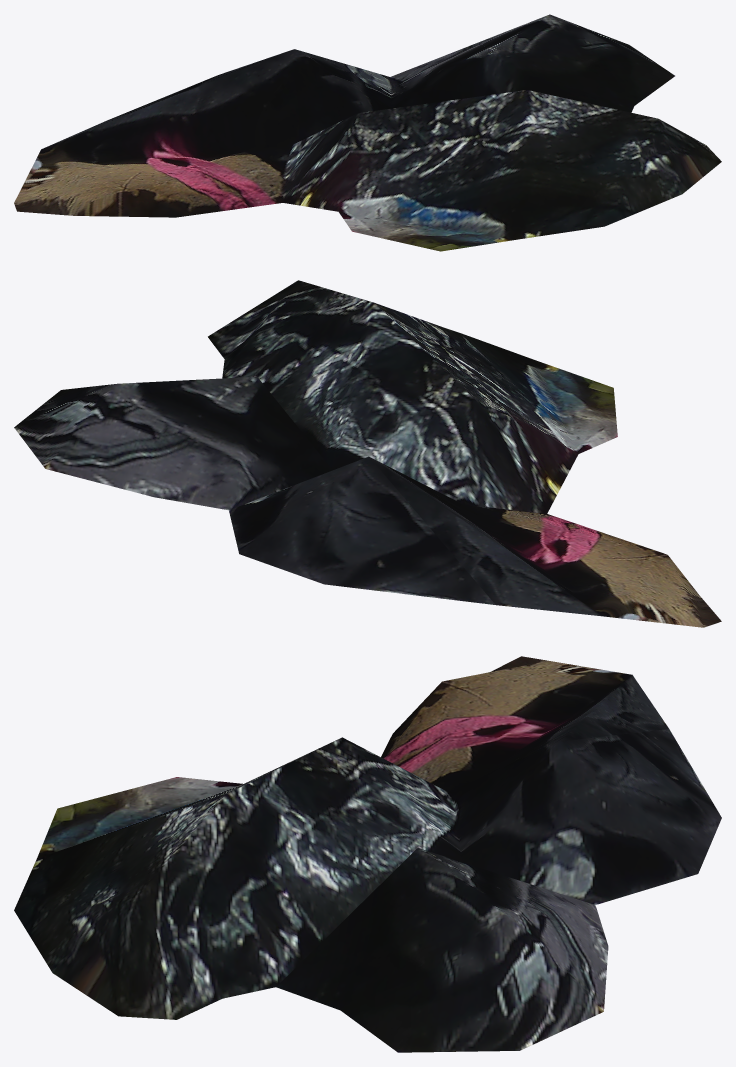
Rendered from Garbage1D_LOD1.fbx.
The picture shows the model from 3 angles, top to bottom: view 1: azimuth 30°, elevation 25°; view 2: azimuth 150°, elevation 25°; view 3: azimuth 270°, elevation 25°; orthographic projection. The views are drawn at different scales.
Parts seen in each view (by area): view 1: polySurface859; view 2: polySurface859; view 3: polySurface859.
Boxes of the visible parts, bbox=[...] form: polySurface859: bbox=[14, 14, 721, 251]; polySurface859: bbox=[14, 280, 721, 627]; polySurface859: bbox=[14, 656, 721, 1052].
Bounding box in the file's own units: 1.4 × 0.2168 × 0.9929.
